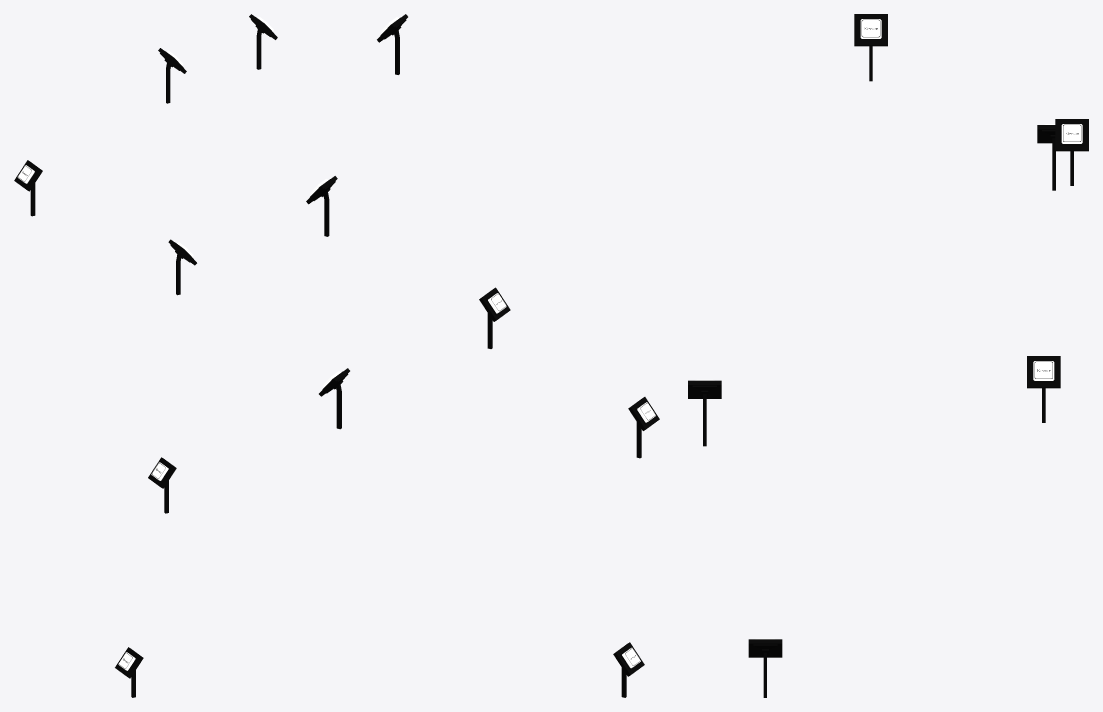
The model's file is buttons.glb.
3 views of the same model, side by side, from view 1: azimuth 30°, elevation 25°; view 2: azimuth 150°, elevation 25°; view 3: azimuth 270°, elevation 25° (orthographic). The views are drawn at different scales.
Visible parts, largest first — view 1: 3, 1, 0, 5, 4, 2; view 2: 1, 3, 0, 2, 4, 5; view 3: 5, 2, 4, 1, 0.
Boxes of the visible parts, x1,y1,x2,y2 form: 3: (14, 160, 42, 216); 1: (148, 457, 176, 513); 0: (115, 647, 143, 697); 5: (249, 14, 277, 69); 4: (158, 48, 186, 103); 2: (168, 239, 196, 295); 1: (628, 397, 659, 458); 3: (479, 287, 510, 348); 0: (613, 642, 644, 697); 2: (319, 368, 349, 429); 4: (306, 176, 337, 236); 5: (377, 14, 407, 74); 5: (854, 14, 887, 81); 2: (1027, 356, 1060, 422); 4: (1055, 119, 1088, 185); 1: (688, 379, 721, 446); 0: (748, 638, 782, 697).
Size of the model in its own units: 8.67 by 26.39 by 12.19.
2 materials, 2 textured.
